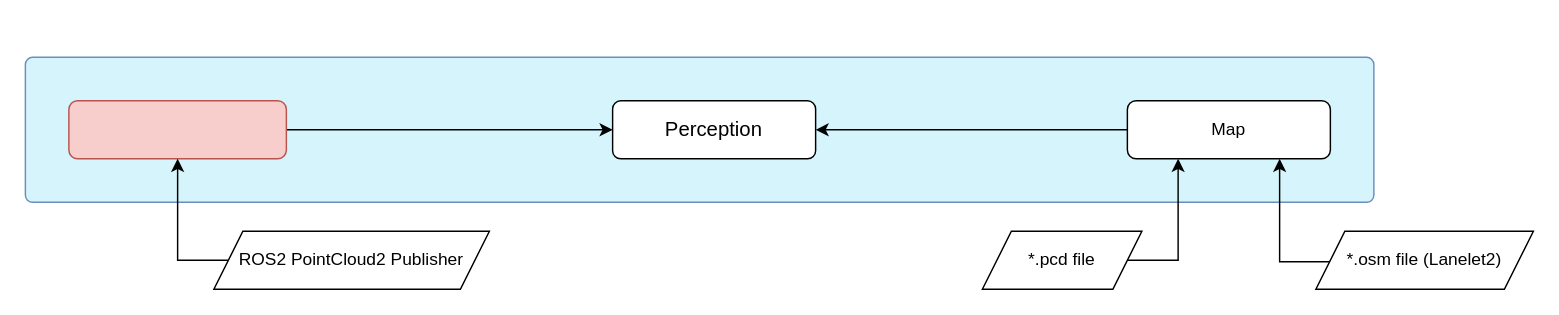
This 1559x315 diagram has some shape labels left out. The shapes that lost their labels are listed below. From the top down, each one's box as (x1, y1, x2, y2) in pixels, then its label:
(67, 99, 286, 159): Sensing
(24, 56, 1374, 202): Autoware_DT
